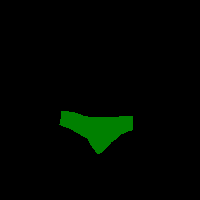mutande: (59, 110, 133, 154)
